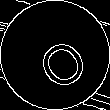O_NW: (22, 22, 88, 88)
